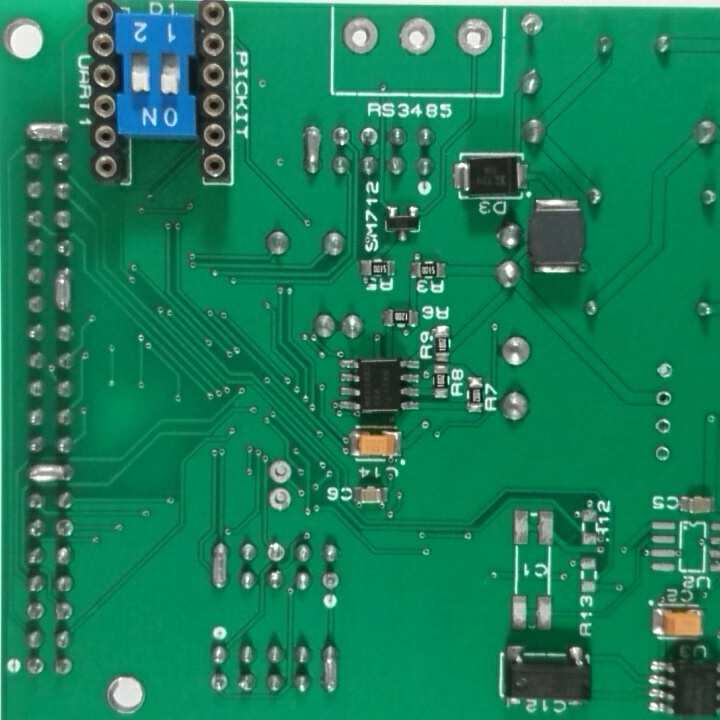F: (396, 16, 440, 59), (454, 16, 498, 58), (338, 13, 382, 54), (265, 456, 293, 486), (519, 10, 545, 40), (266, 487, 294, 512), (54, 515, 76, 543), (205, 672, 232, 692), (24, 655, 45, 680), (265, 541, 287, 564), (358, 125, 379, 149), (322, 570, 340, 596), (25, 601, 46, 623), (655, 359, 675, 382), (654, 389, 674, 410), (653, 418, 674, 436), (654, 443, 671, 463)
P: (208, 538, 231, 595), (24, 120, 73, 146), (25, 460, 75, 485), (51, 265, 75, 317), (320, 643, 341, 698), (301, 123, 322, 177)
